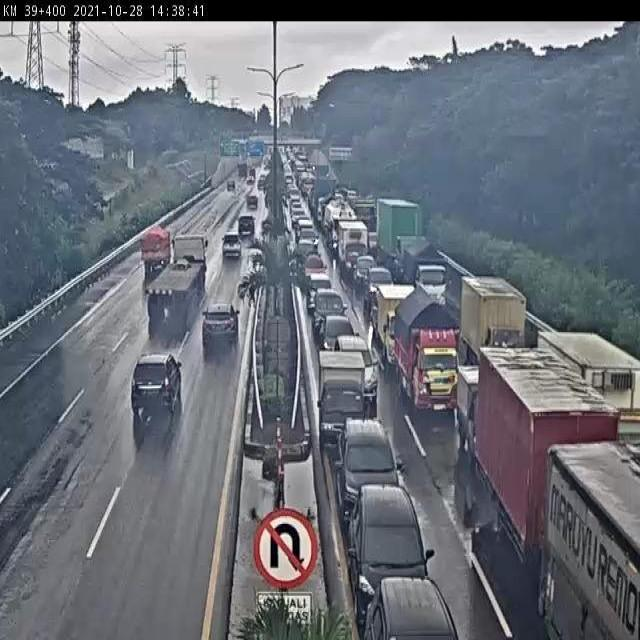big truck: (477, 344, 618, 595), (378, 197, 424, 280)
car: (350, 482, 435, 610), (334, 417, 405, 531), (360, 576, 459, 640), (145, 233, 212, 327), (129, 353, 185, 423), (337, 335, 380, 401), (203, 301, 239, 355), (311, 288, 348, 339), (321, 314, 359, 362), (366, 267, 395, 312), (306, 273, 335, 315), (300, 250, 327, 294), (355, 255, 375, 289), (219, 233, 243, 260), (237, 211, 257, 237)
small truck: (392, 285, 461, 415), (460, 273, 526, 379), (457, 368, 510, 467), (316, 351, 366, 449), (401, 235, 448, 309), (380, 284, 419, 367), (339, 218, 370, 274), (139, 228, 170, 275)
